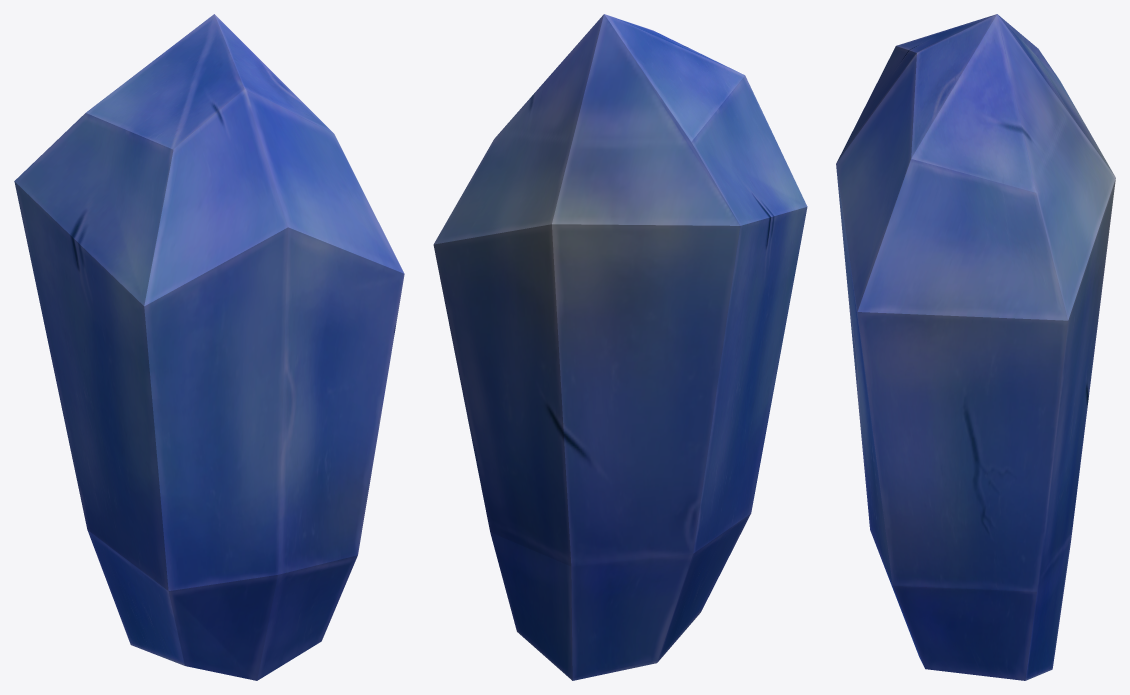
The model's file is khyber-dragonshard.glb.
3 views of the same model, side by side, from view 1: azimuth 30°, elevation 25°; view 2: azimuth 150°, elevation 25°; view 3: azimuth 270°, elevation 25° (orthographic).
Parts seen in each view (by area): view 1: Cube; view 2: Cube; view 3: Cube.
Boxes of the visible parts, x1,y1,x2,y2 form: Cube: (14, 14, 404, 680); Cube: (433, 14, 807, 680); Cube: (836, 14, 1115, 680).
Bounding box in the file's own units: 76.26 × 156 × 60.49.
Materials: 1 (1 with a texture image).
